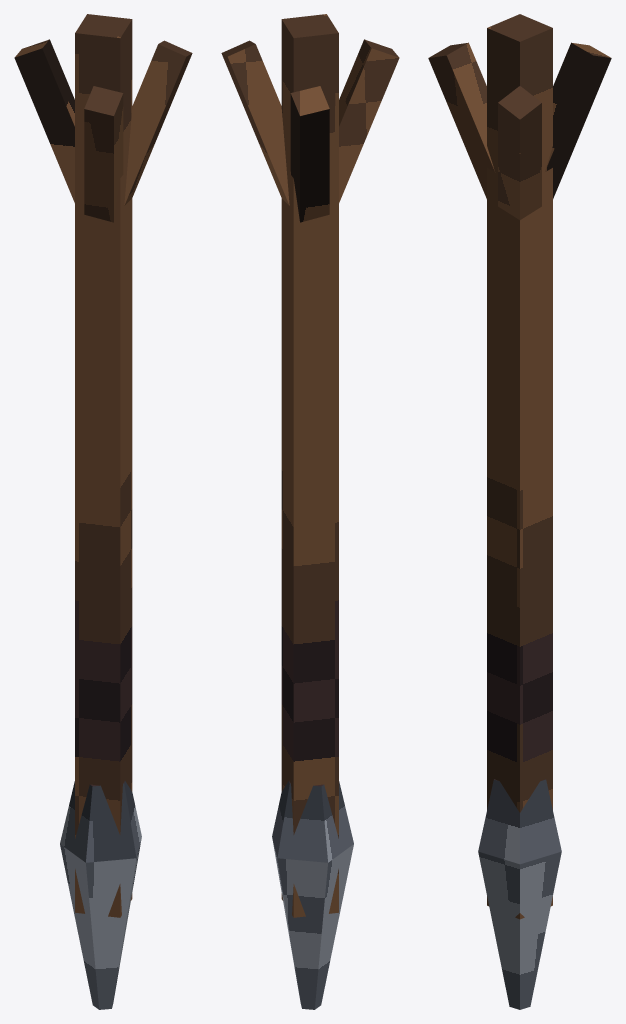
Rendered from SM_Prop_Dart_01.glb.
3 renders of one model, left to right at view 1: azimuth 30°, elevation 25°; view 2: azimuth 150°, elevation 25°; view 3: azimuth 270°, elevation 25°, orthographic.
Parts seen in each view (by area): view 1: wood_shaft, iron_point, wood_fletch_1, wood_fletch_2, wood_fletch_0; view 2: wood_shaft, iron_point, wood_fletch_2, wood_fletch_1, wood_fletch_0; view 3: wood_shaft, iron_point, wood_fletch_0, wood_fletch_1, wood_fletch_2.
Part boxes in pixels (x1,y1,x2,y2): wood_shaft: (75, 14, 132, 917); iron_point: (60, 781, 141, 1009); wood_fletch_1: (84, 86, 123, 222); wood_fletch_2: (14, 39, 74, 202); wood_fletch_0: (124, 40, 192, 205); wood_shaft: (281, 14, 338, 917); iron_point: (272, 781, 353, 1009); wood_fletch_2: (290, 86, 329, 222); wood_fletch_1: (339, 39, 399, 202); wood_fletch_0: (221, 40, 289, 205); wood_shaft: (487, 14, 552, 919); iron_point: (478, 779, 561, 1009); wood_fletch_0: (498, 86, 541, 219); wood_fletch_1: (428, 42, 494, 198); wood_fletch_2: (545, 42, 611, 198).
Bounding box in the file's own units: 0.03 × 0.196 × 0.0334.
Materials: 1 (1 with a texture image).
